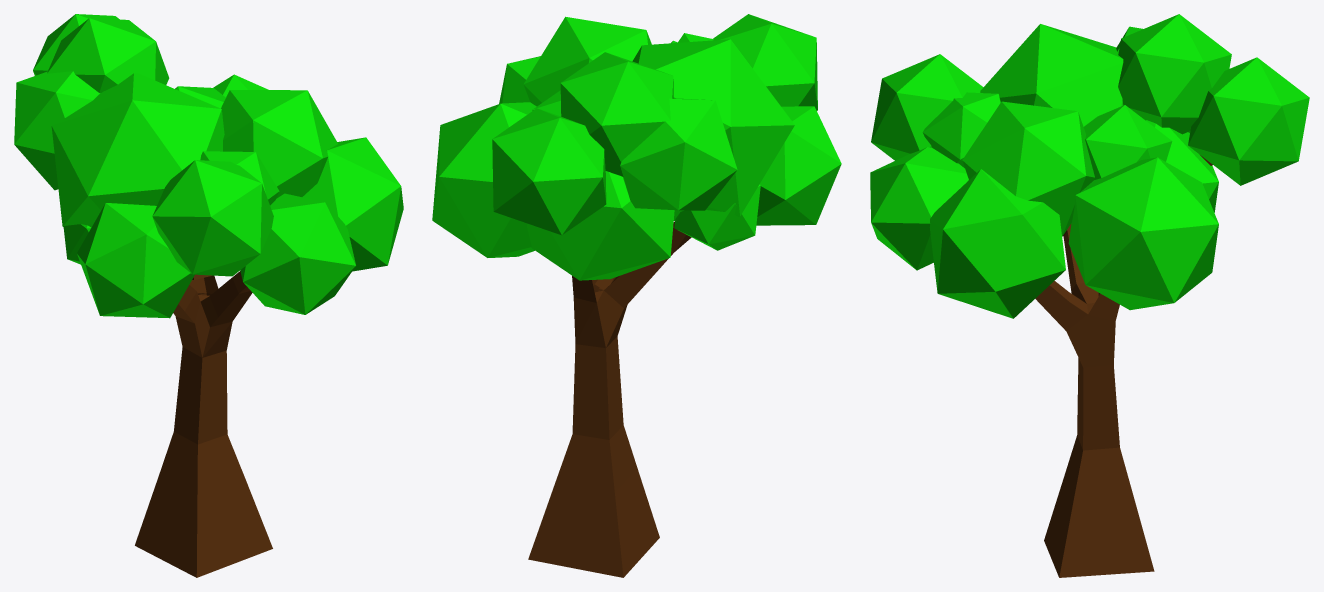
File: treeplaceholder.fbx
The picture shows the model from 3 angles, left to right: view 1: azimuth 30°, elevation 25°; view 2: azimuth 150°, elevation 25°; view 3: azimuth 270°, elevation 25°; orthographic projection. The views are drawn at different scales.
Parts seen in each view (by area): view 1: Cube, Icosphere.011, Icosphere.012, Icosphere, Icosphere.001, Icosphere.009, Icosphere.002, Icosphere.007, Icosphere.005, Icosphere.008, Icosphere.004, Icosphere.006 (+2 smaller); view 2: Cube, Icosphere.004, Icosphere.011, Icosphere.003, Icosphere.005, Icosphere.007, Icosphere.013, Icosphere, Icosphere.012, Icosphere.009, Icosphere.006, Icosphere.002; view 3: Cube, Icosphere.003, Icosphere.002, Icosphere.004, Icosphere.009, Icosphere.007, Icosphere.011, Icosphere.001, Icosphere.012, Icosphere.010, Icosphere.008, Icosphere.013.
Boxes of the visible parts, x1=… form: Cube: x1=135, y1=271, x2=272, y2=577; Icosphere.011: x1=51, y1=73, x2=224, y2=227; Icosphere.012: x1=152, y1=160, x2=273, y2=276; Icosphere: x1=77, y1=203, x2=194, y2=318; Icosphere.001: x1=240, y1=193, x2=355, y2=314; Icosphere.009: x1=221, y1=90, x2=337, y2=198; Icosphere.002: x1=302, y1=137, x2=403, y2=271; Icosphere.007: x1=47, y1=18, x2=169, y2=93; Icosphere.005: x1=14, y1=71, x2=100, y2=190; Icosphere.008: x1=200, y1=151, x2=279, y2=205; Icosphere.004: x1=33, y1=14, x2=119, y2=75; Icosphere.006: x1=63, y1=224, x2=91, y2=264; Cube: x1=528, y1=221, x2=691, y2=577; Icosphere.004: x1=492, y1=108, x2=606, y2=235; Icosphere.011: x1=632, y1=39, x2=794, y2=220; Icosphere.003: x1=432, y1=102, x2=536, y2=257; Icosphere.005: x1=619, y1=98, x2=737, y2=210; Icosphere.007: x1=560, y1=52, x2=673, y2=176; Icosphere.013: x1=527, y1=171, x2=674, y2=280; Icosphere: x1=756, y1=106, x2=841, y2=225; Icosphere.012: x1=713, y1=14, x2=817, y2=110; Icosphere.009: x1=523, y1=16, x2=651, y2=106; Icosphere.006: x1=674, y1=184, x2=760, y2=250; Icosphere.002: x1=499, y1=56, x2=540, y2=103; Cube: x1=1035, y1=155, x2=1212, y2=577; Icosphere.003: x1=1068, y1=157, x2=1218, y2=310; Icosphere.002: x1=929, y1=169, x2=1065, y2=318; Icosphere.004: x1=1188, y1=57, x2=1309, y2=185; Icosphere.009: x1=962, y1=101, x2=1094, y2=236; Icosphere.007: x1=1118, y1=14, x2=1231, y2=134; Icosphere.011: x1=980, y1=24, x2=1123, y2=126; Icosphere.001: x1=870, y1=147, x2=968, y2=270; Icosphere.012: x1=871, y1=54, x2=983, y2=160; Icosphere.010: x1=1083, y1=105, x2=1172, y2=179; Icosphere.008: x1=922, y1=92, x2=1000, y2=168; Icosphere.013: x1=1146, y1=120, x2=1218, y2=212.
Bounding box in the file's own units: 399 × 607 × 476.
